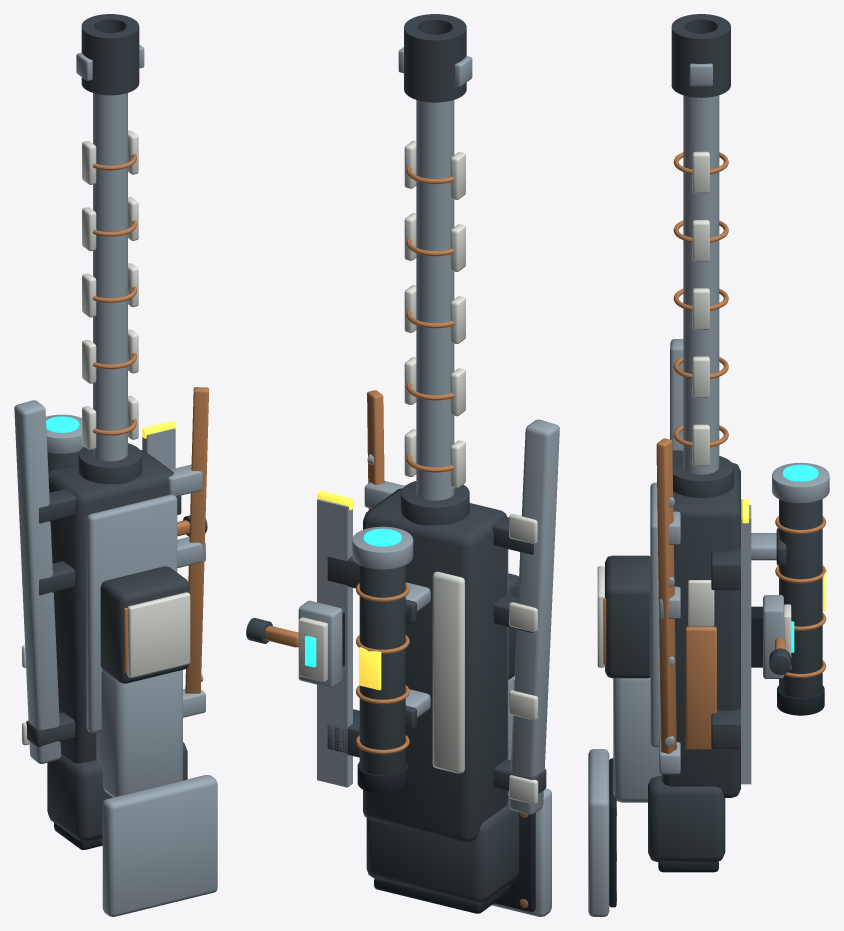
The model's file is M01-011_long_precision_rifle_animated.glb.
3 views of the same model, side by side, from view 1: azimuth 30°, elevation 25°; view 2: azimuth 150°, elevation 25°; view 3: azimuth 270°, elevation 25° (orthographic). The views are drawn at different scales.
Visible parts, largest first — view 1: Mount_Top_Socket, Bored_Long_Barrel, Precision_Receiver, Left_Long_Diagonal_Brace, Load_Bearing_Column, Receiver_Lower_Skid, Magazine_Ceramic_Base, Underbarrel_Magazine, Rear_Recoil_Block, Muzzle_Brake_Bored, Right_Light_Diagonal_Brace, Barrel_Breech_Collar (+15 smaller); view 2: Precision_Receiver, Bored_Long_Barrel, Left_Long_Diagonal_Brace, Rear_Recoil_Block, Precision_Optic_Tube, Bolt_Fixed_Rail, Receiver_Upper_Ceramic_Left, Muzzle_Brake_Bored, Mount_Top_Socket, Barrel_Breech_Collar, Mount_Elastomer_Gasket, Bolt_Machined_Block (+21 smaller); view 3: Precision_Receiver, Bored_Long_Barrel, Precision_Optic_Tube, Rear_Recoil_Block, Underbarrel_Magazine, Load_Bearing_Column, Right_Light_Diagonal_Brace, Muzzle_Brake_Bored, Right_Side_Copper_Band, Mount_Top_Socket, Bolt_Fixed_Rail, Receiver_Lower_Skid (+22 smaller).
Boxes of the visible parts, x1,y1,x2,y2 form: Mount_Top_Socket: [102, 775, 217, 916]; Bored_Long_Barrel: [93, 93, 127, 461]; Precision_Receiver: [48, 450, 176, 763]; Left_Long_Diagonal_Brace: [14, 400, 61, 763]; Load_Bearing_Column: [96, 670, 182, 797]; Receiver_Lower_Skid: [86, 494, 177, 732]; Magazine_Ceramic_Base: [127, 592, 190, 677]; Underbarrel_Magazine: [100, 566, 189, 683]; Rear_Recoil_Block: [47, 742, 187, 841]; Muzzle_Brake_Bored: [81, 14, 139, 95]; Right_Light_Diagonal_Brace: [185, 387, 209, 693]; Barrel_Breech_Collar: [78, 443, 141, 484]; Precision_Receiver: [363, 488, 507, 842]; Bored_Long_Barrel: [416, 100, 454, 500]; Left_Long_Diagonal_Brace: [509, 419, 559, 814]; Rear_Recoil_Block: [366, 796, 519, 902]; Precision_Optic_Tube: [359, 565, 405, 774]; Bolt_Fixed_Rail: [317, 499, 352, 787]; Receiver_Upper_Ceramic_Left: [432, 571, 464, 773]; Muzzle_Brake_Bored: [404, 14, 466, 102]; Mount_Top_Socket: [492, 788, 551, 916]; Barrel_Breech_Collar: [401, 481, 469, 525]; Mount_Elastomer_Gasket: [494, 812, 535, 911]; Bolt_Machined_Block: [298, 600, 342, 687]; Precision_Receiver: [661, 462, 740, 797]; Bored_Long_Barrel: [683, 95, 719, 474]; Precision_Optic_Tube: [779, 499, 822, 697]; Rear_Recoil_Block: [648, 776, 725, 862]; Underbarrel_Magazine: [605, 555, 650, 678]; Load_Bearing_Column: [613, 678, 661, 802]; Right_Light_Diagonal_Brace: [656, 438, 676, 753]; Muzzle_Brake_Bored: [671, 14, 730, 97]; Right_Side_Copper_Band: [685, 626, 716, 749]; Mount_Top_Socket: [588, 749, 609, 916]; Bolt_Fixed_Rail: [741, 505, 751, 784]; Receiver_Lower_Skid: [650, 482, 660, 747].
Size of the model in its own units: 0.6584 by 2.28 by 0.577.
